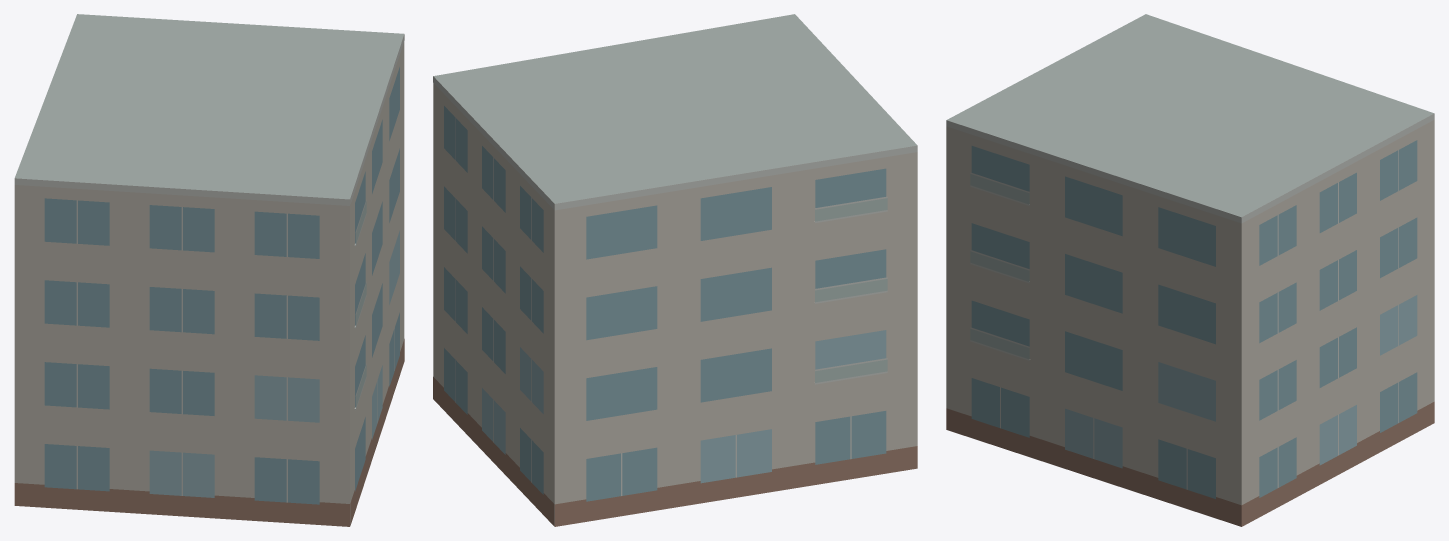
Rendered from survey-upis-32491892.glb.
3 renders of one model, left to right at view 1: azimuth 30°, elevation 25°; view 2: azimuth 150°, elevation 25°; view 3: azimuth 270°, elevation 25°, orthographic. The views are drawn at different scales.
Visible parts, largest first — view 1: survey-upis-32491892.tmp; view 2: survey-upis-32491892.tmp; view 3: survey-upis-32491892.tmp.
Boxes of the visible parts, x1,y1,x2,y2 form: survey-upis-32491892.tmp: (14, 14, 404, 526); survey-upis-32491892.tmp: (433, 14, 917, 526); survey-upis-32491892.tmp: (946, 14, 1434, 526).
Bounding box in the file's own units: 17.19 × 12.2 × 17.45.
